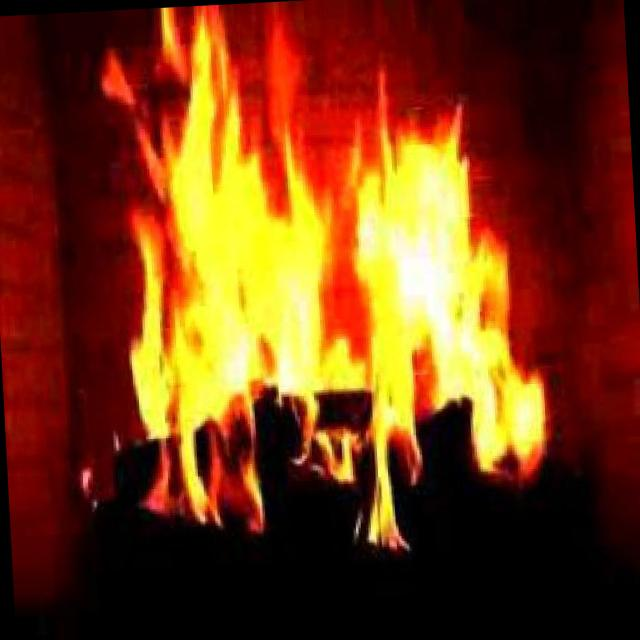Fire: (45, 0, 565, 583)
